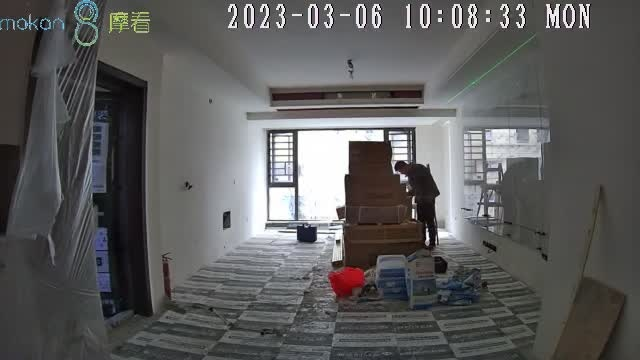people: (394, 159, 437, 252)
window: (263, 128, 345, 222)
